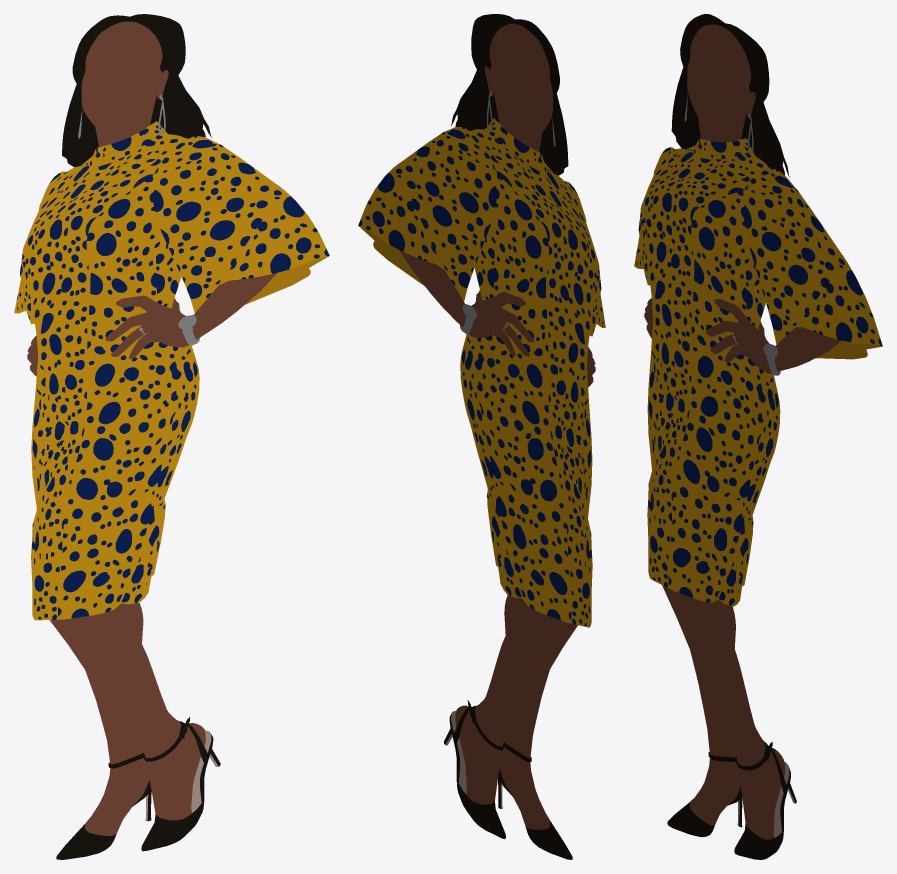
File: track.dae
3 views of the same model, side by side, from view 1: azimuth 30°, elevation 25°; view 2: azimuth 150°, elevation 25°; view 3: azimuth 330°, elevation 25° (orthographic).
Visible parts, largest first — view 1: Sumele (×10); view 2: Sumele (×10); view 3: Sumele (×10).
Part boxes in pixels (x1=…): Sumele (×10): x1=14, y1=14, x2=328, y2=859; Sumele (×10): x1=359, y1=14, x2=605, y2=859; Sumele (×10): x1=634, y1=14, x2=881, y2=859.
Size of what is drawn, in the model's own units: 22.95 by 4.5 by 64.95.
